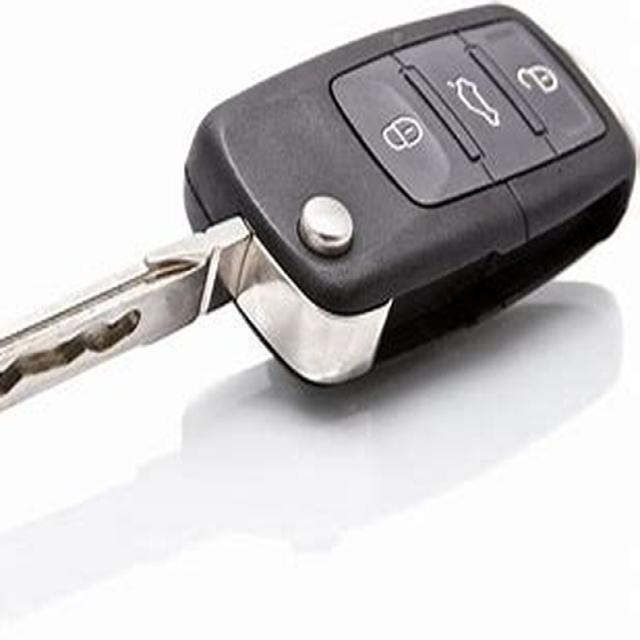key: (116, 74, 640, 392)
